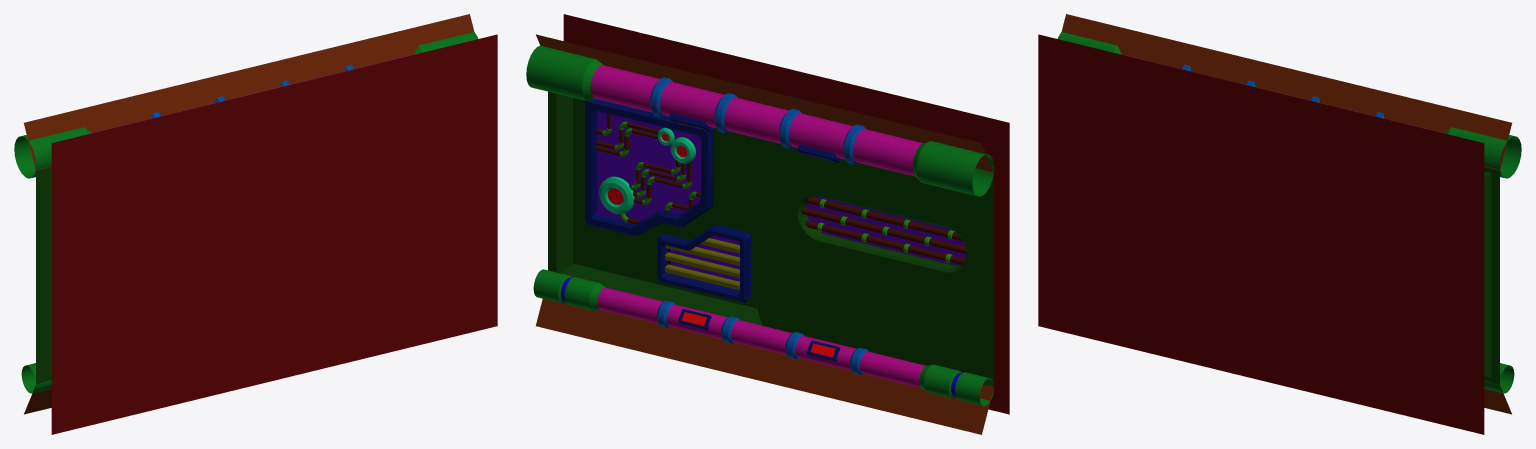
Rendered from OBJ_SF_Mur.fbx.
The picture shows the model from 3 angles, left to right: view 1: azimuth 30°, elevation 25°; view 2: azimuth 150°, elevation 25°; view 3: azimuth 330°, elevation 25°; orthographic projection.
Parts seen in each view (by area): view 1: OBJ_Mur; view 2: OBJ_Mur; view 3: OBJ_Mur.
Boxes of the visible parts, left/top/right/bottom form: OBJ_Mur: left=14, top=14, right=497, bottom=434; OBJ_Mur: left=526, top=14, right=1009, bottom=434; OBJ_Mur: left=1038, top=14, right=1521, bottom=434.
Size of the model in its own units: 12 by 7.5 by 1.73.
